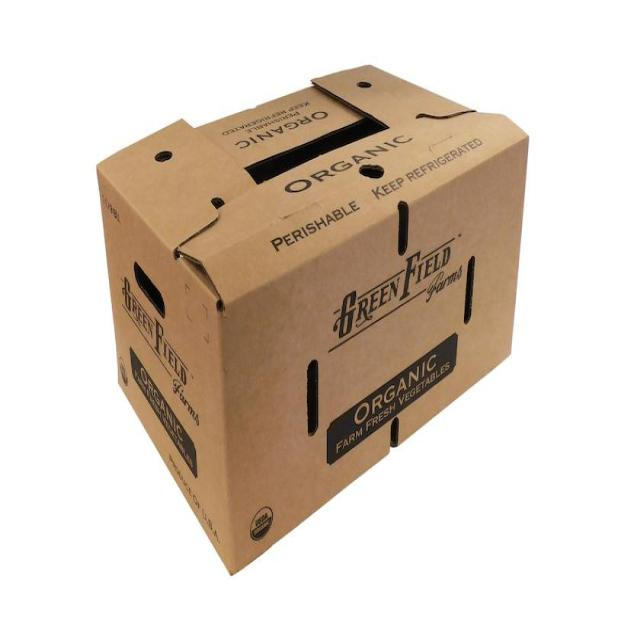cardboard: (96, 60, 529, 577)
